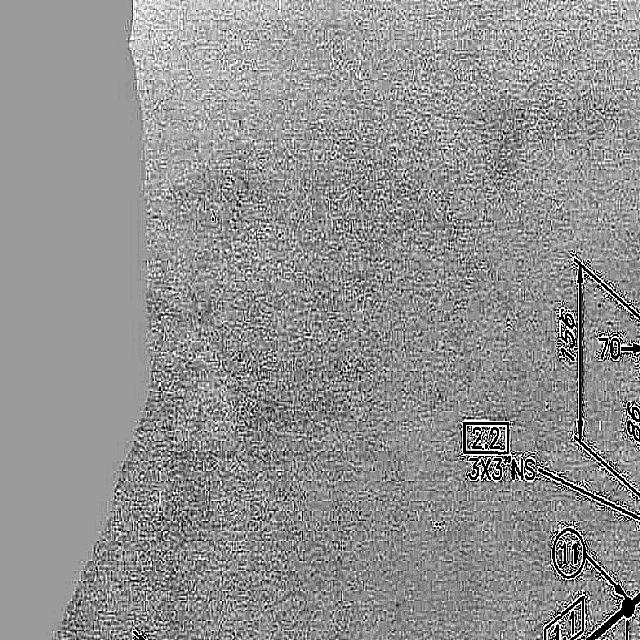Item number: (541, 590, 586, 637), (461, 417, 512, 458)
Measrement: (558, 252, 589, 458), (464, 451, 542, 485), (598, 326, 639, 372), (623, 399, 639, 458)
Weld number: (549, 524, 587, 583)
